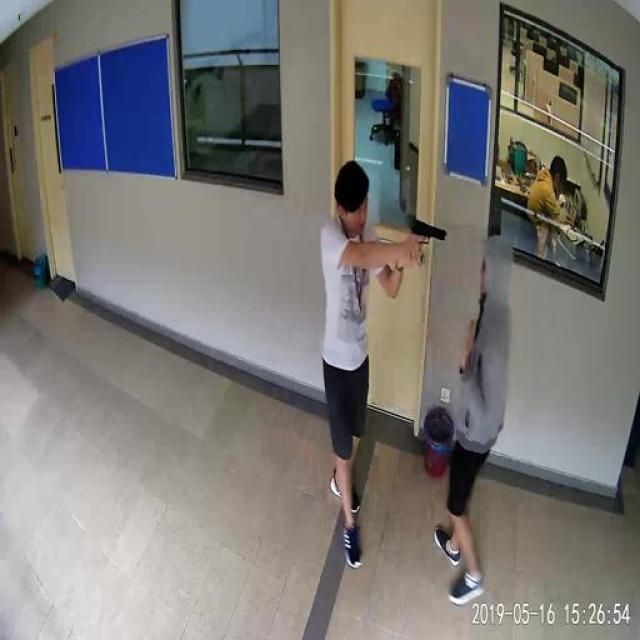Gun: (405, 208, 453, 270)
